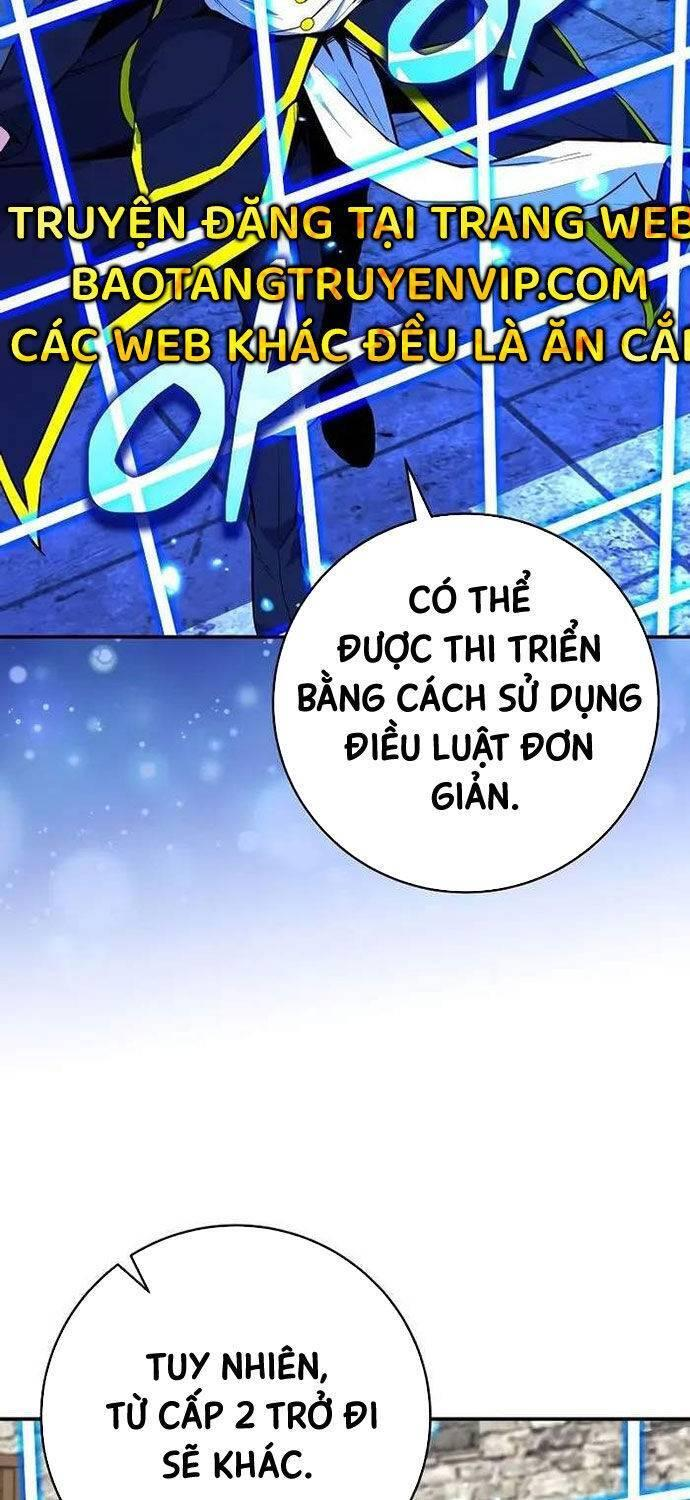quangcao: (0, 192, 690, 372)
